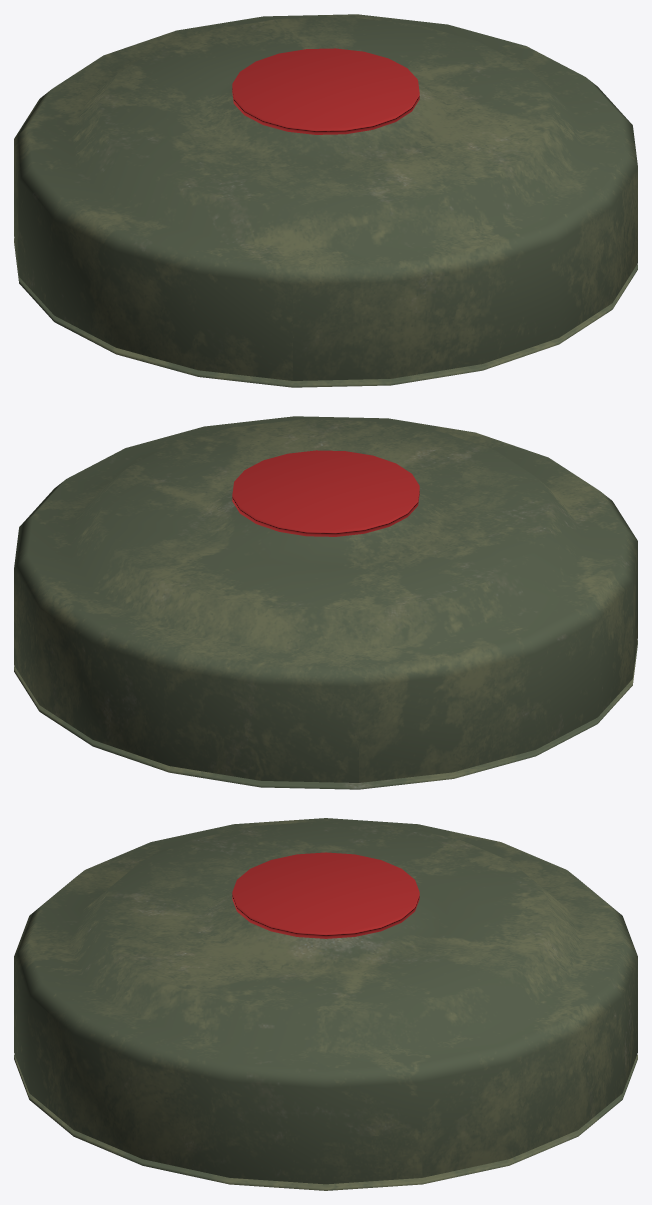
The model's file is mine mid poly.fbx.
3 views of the same model, one above another, from view 1: azimuth 30°, elevation 25°; view 2: azimuth 150°, elevation 25°; view 3: azimuth 270°, elevation 25° (orthographic).
Parts seen in each view (by area): view 1: mine; view 2: mine; view 3: mine.
Part boxes in pixels (left/top/right/bottom): mine: left=14, top=14, right=637, bottom=387; mine: left=14, top=416, right=637, bottom=789; mine: left=14, top=818, right=637, bottom=1190.
Bounding box in the file's own units: 1.04 × 0.3068 × 1.04.
2 materials, 1 textured.
